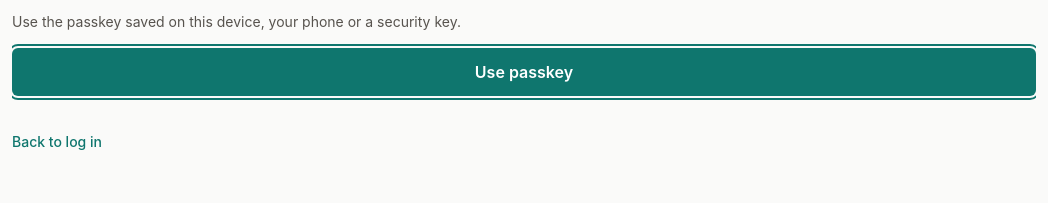
Scenario: VerifyLogin › keeps the passkey button after the browser dialog was cancelled
Click the button "Use passkey": (524, 72) [12,48,1036,96]
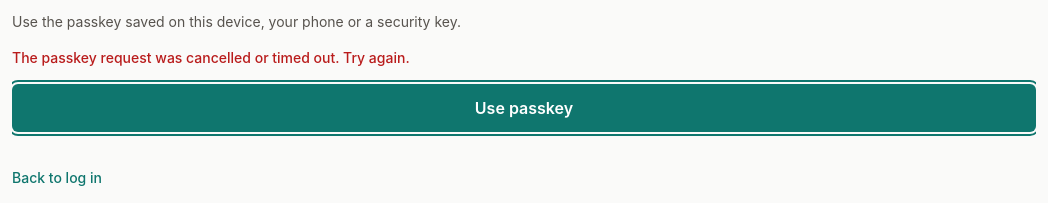
Expected: the message reads "The passkey request was cancelled or timed out. Try again.", [12,49,410,66]
